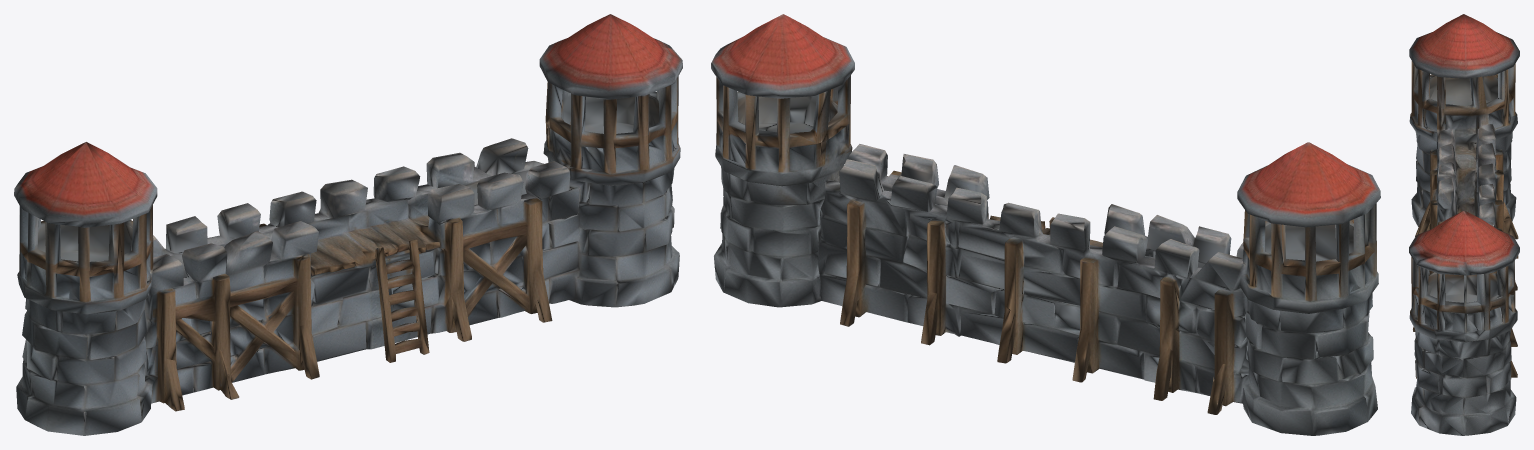
File: road-player-1.glb
The picture shows the model from 3 angles, left to right: view 1: azimuth 30°, elevation 25°; view 2: azimuth 150°, elevation 25°; view 3: azimuth 270°, elevation 25°; orthographic projection. The views are drawn at different scales.
Parts seen in each view (by area): view 1: mesh_node; view 2: mesh_node; view 3: mesh_node.
Part boxes in pixels (<box>): mesh_node: <box>14,14,682,435</box>; mesh_node: <box>711,14,1380,435</box>; mesh_node: <box>1409,14,1519,435</box>.
Size of the model in its own units: 2 by 0.7845 by 0.3873.
1 material, 1 textured.
